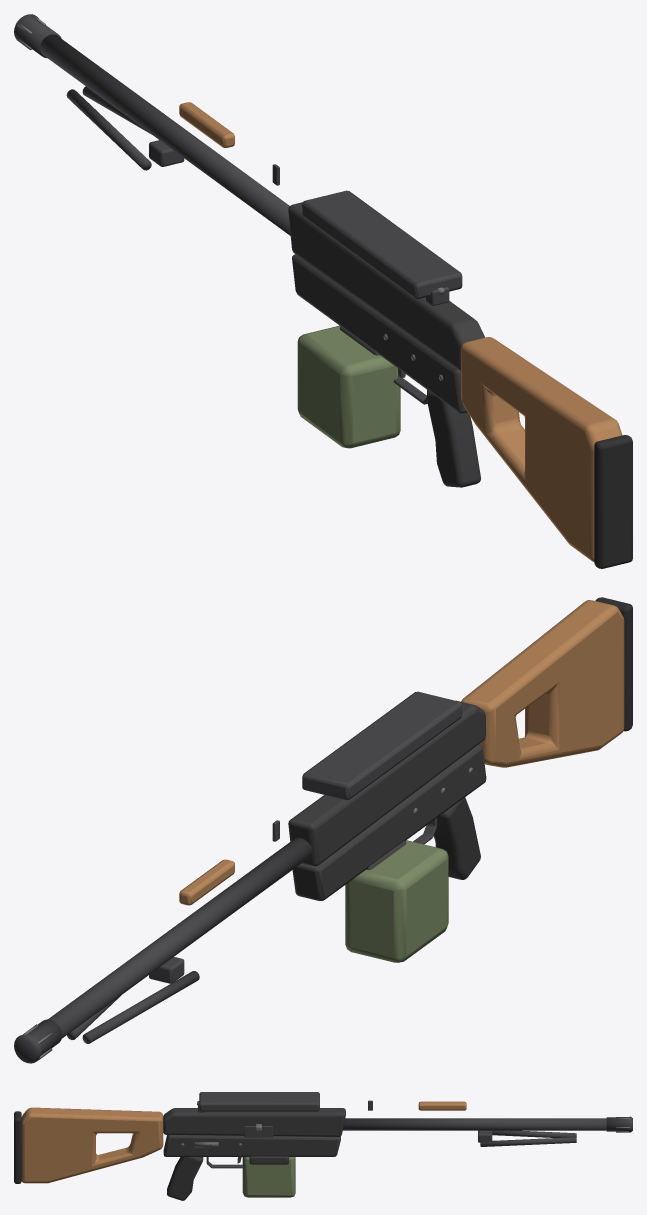
File: w_pkm.glb
The picture shows the model from 3 angles, top to bottom: view 1: azimuth 30°, elevation 25°; view 2: azimuth 150°, elevation 25°; view 3: azimuth 270°, elevation 25°; orthographic projection. The views are drawn at different scales.
Parts seen in each view (by area): view 1: body, mag; view 2: body, mag; view 3: body, mag.
Boxes of the visible parts, box(x1,y1,x2,y2) form: body: box(14, 14, 632, 568); mag: box(297, 325, 400, 448); body: box(14, 597, 632, 1063); mag: box(345, 840, 448, 962); body: box(14, 1092, 632, 1200); mag: box(242, 1157, 295, 1197).
Size of the model in its own units: 0.0962 by 0.215 by 1.19.
